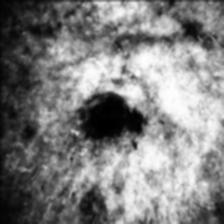Potentially Malignant Skin Tumors: (74, 96, 146, 152)
